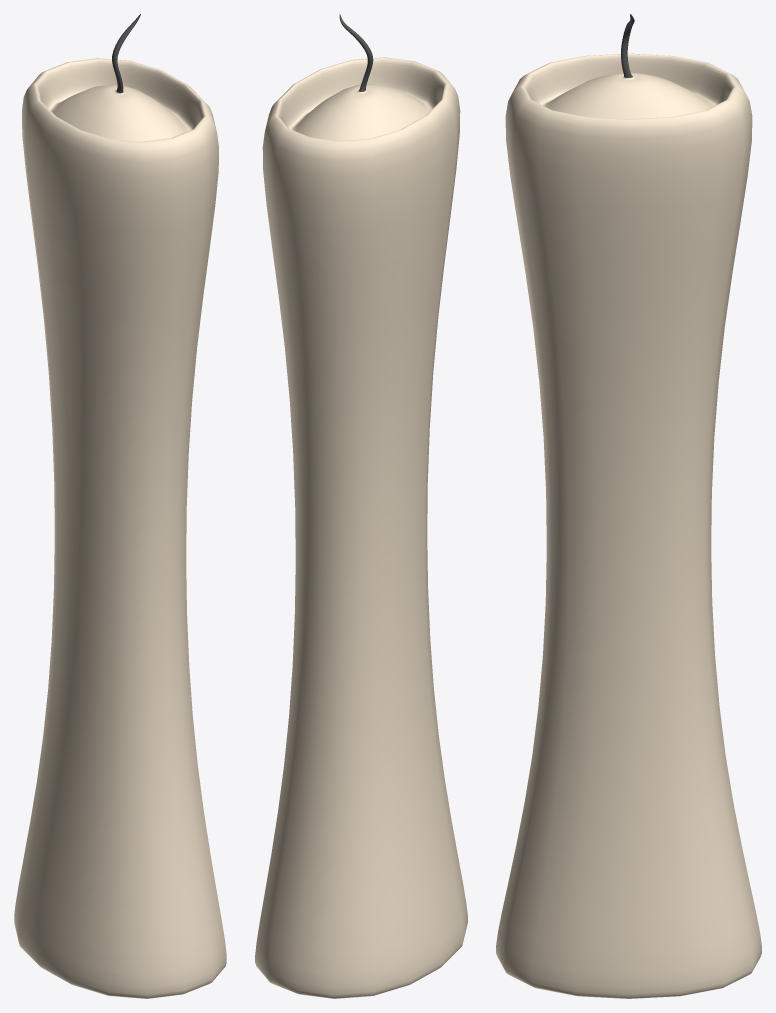
Rendered from candle.fbx.
3 renders of one model, left to right at view 1: azimuth 30°, elevation 25°; view 2: azimuth 150°, elevation 25°; view 3: azimuth 270°, elevation 25°, orthographic. The views are drawn at different scales.
Parts seen in each view (by area): view 1: Candle; view 2: Candle; view 3: Candle.
Part boxes in pixels (x1=…): Candle: x1=14, y1=14, x2=226, y2=998; Candle: x1=255, y1=14, x2=467, y2=998; Candle: x1=496, y1=14, x2=761, y2=998.
Size of the model in its own units: 13.84 by 75.52 by 19.01.
